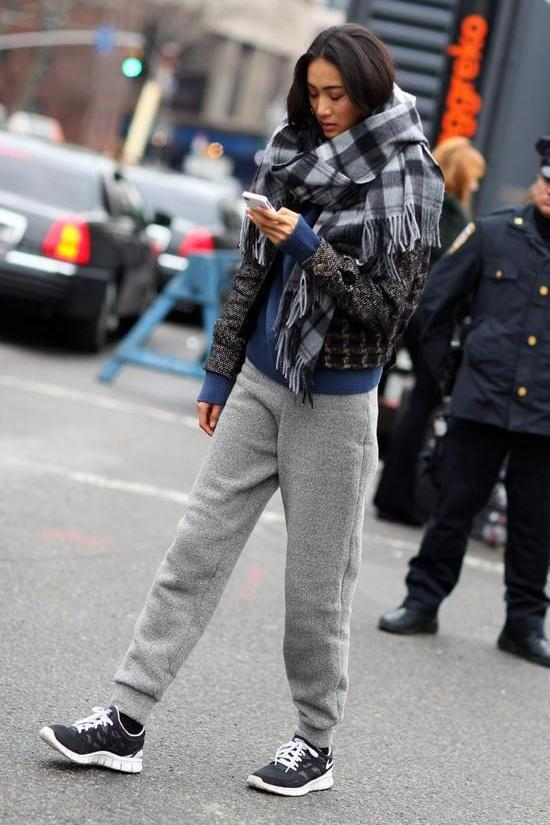pants: (114, 358, 379, 748)
